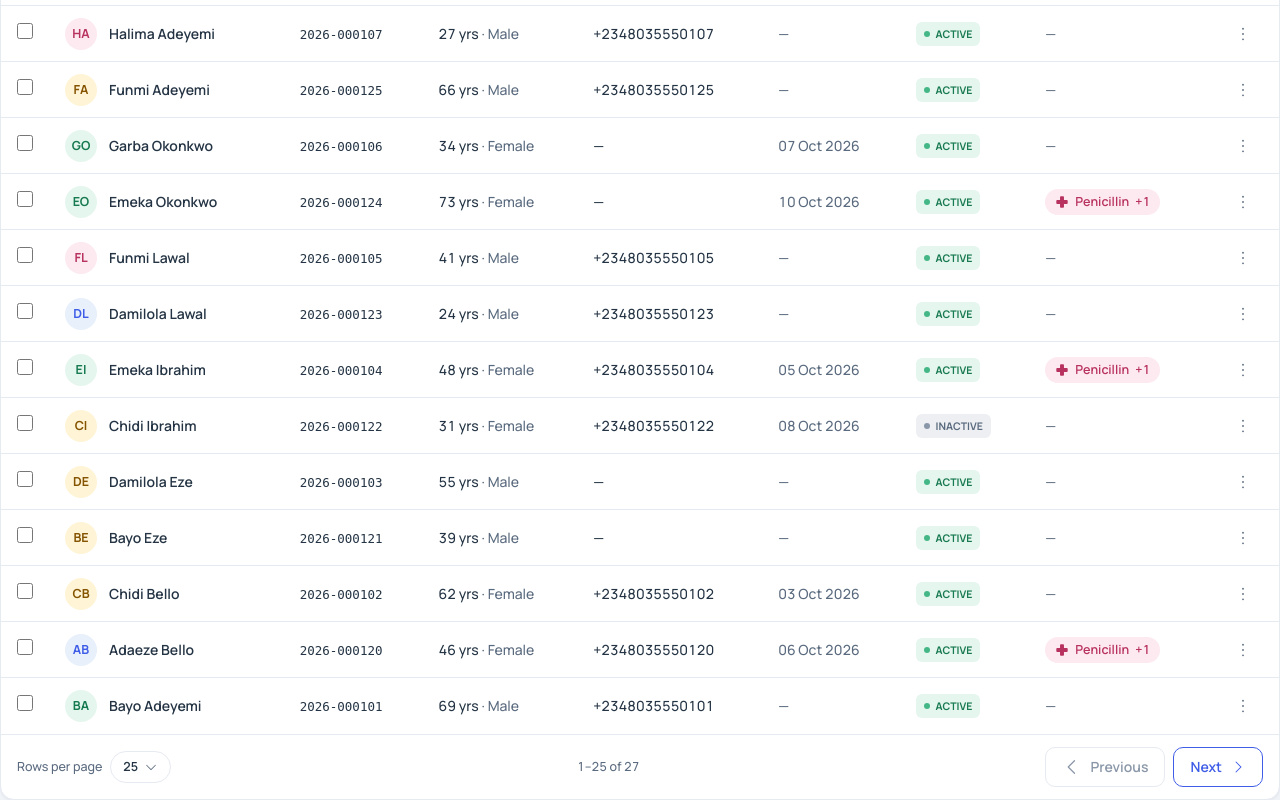
patients register (mock layer) › pages through the register and changes the page size
(page scrolled)
Click the button "Next".
click(1218, 766)  # box [1174, 746, 1263, 786]
(page scrolled)
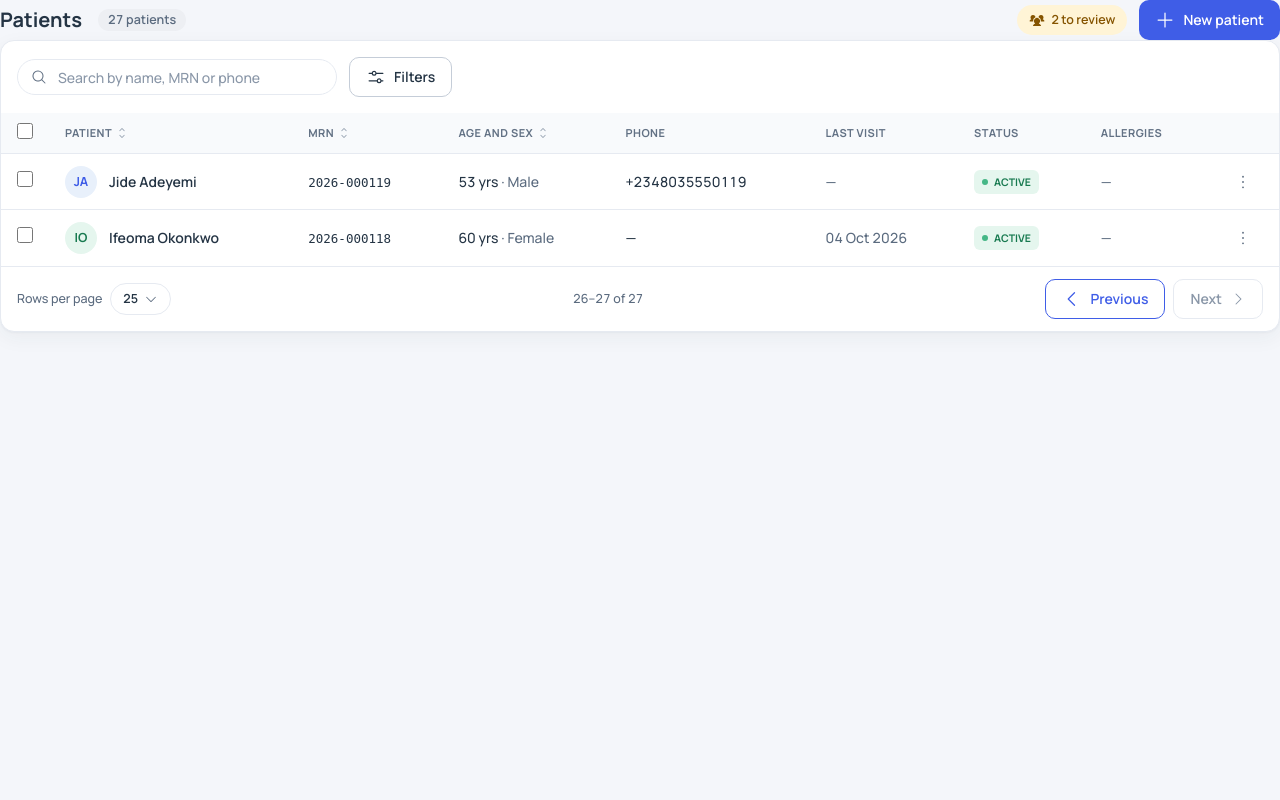
Expected: the navigation bar named "Pagination" shows "26–27 of 27", [1, 266, 1279, 330]
Click the dropdown named "Rows per page".
click(141, 298)  # box [110, 282, 171, 314]
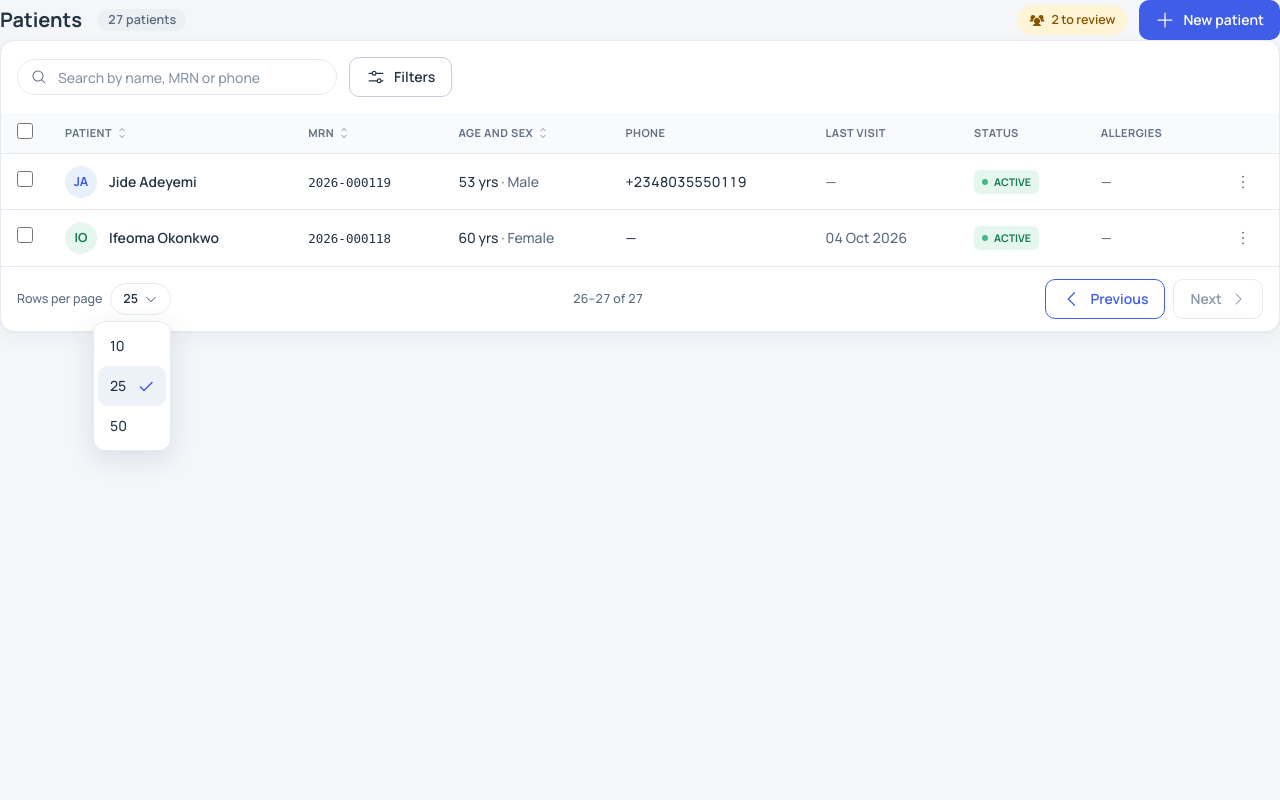
Click the option "10".
click(117, 346)  # box [110, 336, 124, 355]
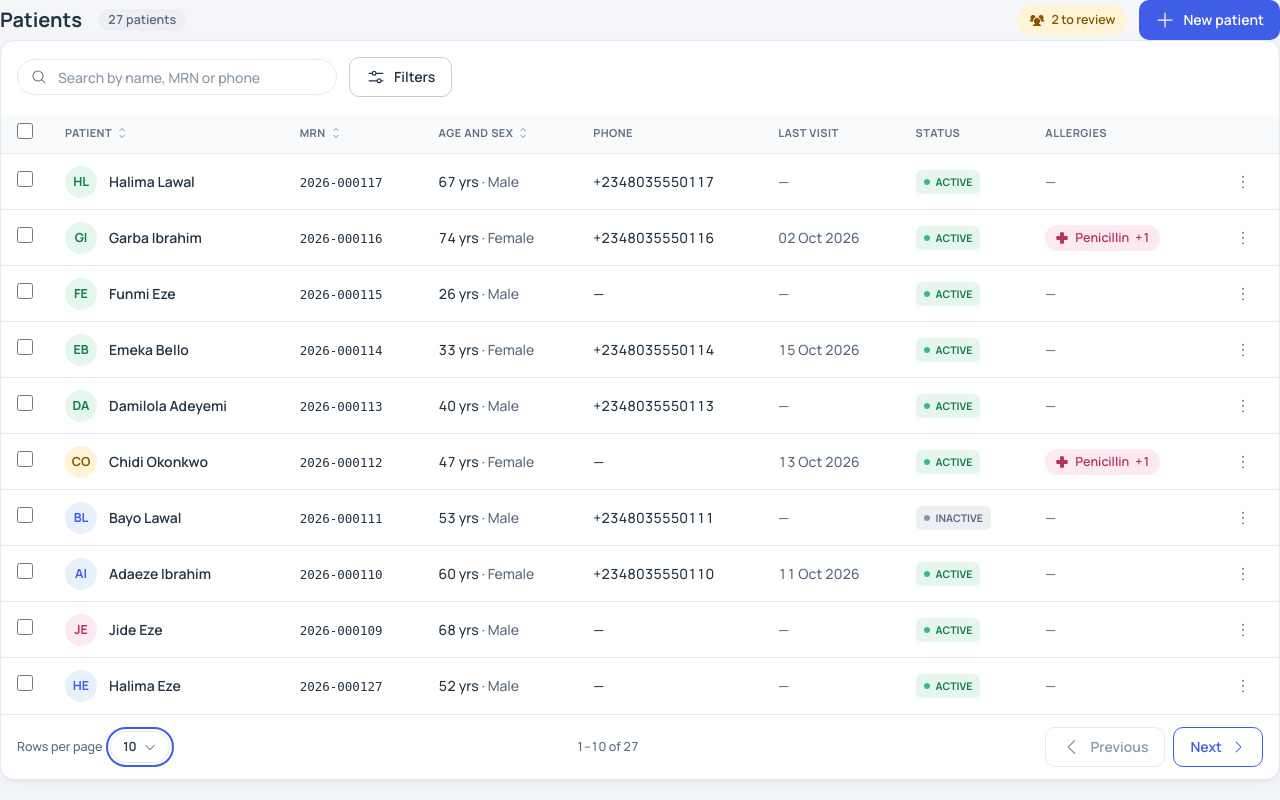
Expected: the navigation bar named "Pagination" shows "1–10 of 27", [1, 714, 1279, 778]
